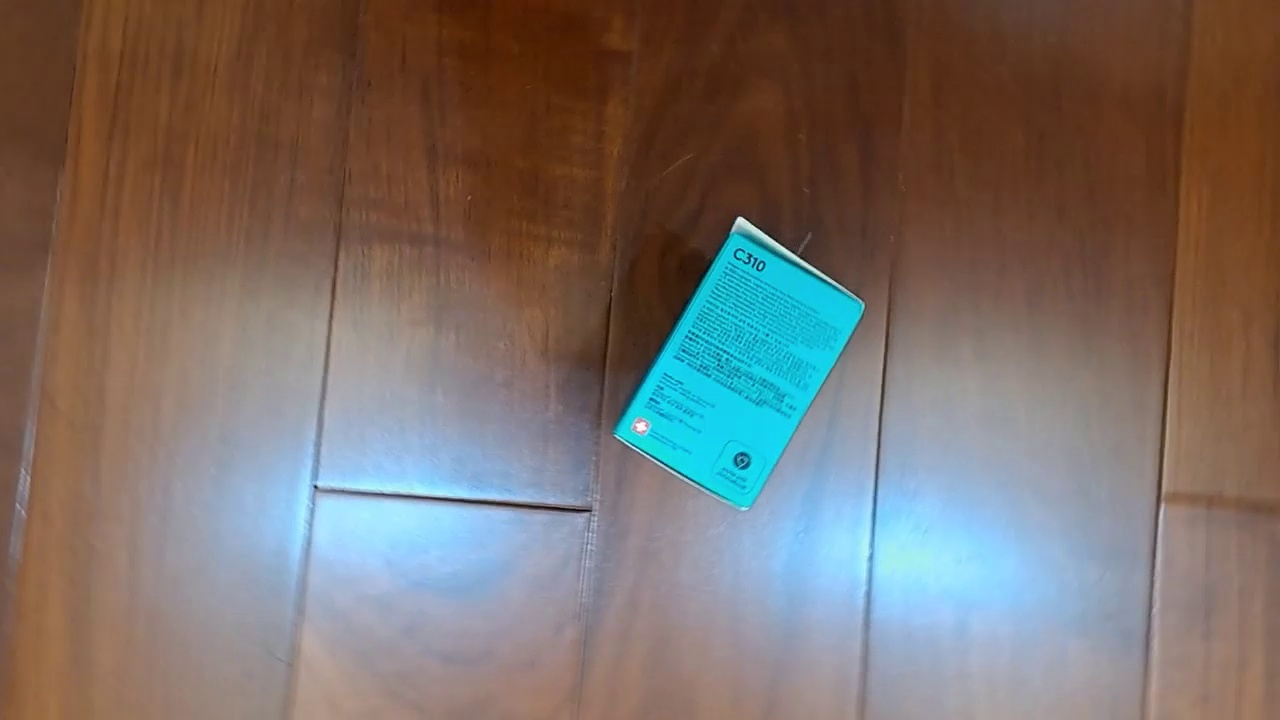webcam: (609, 215, 868, 513)
